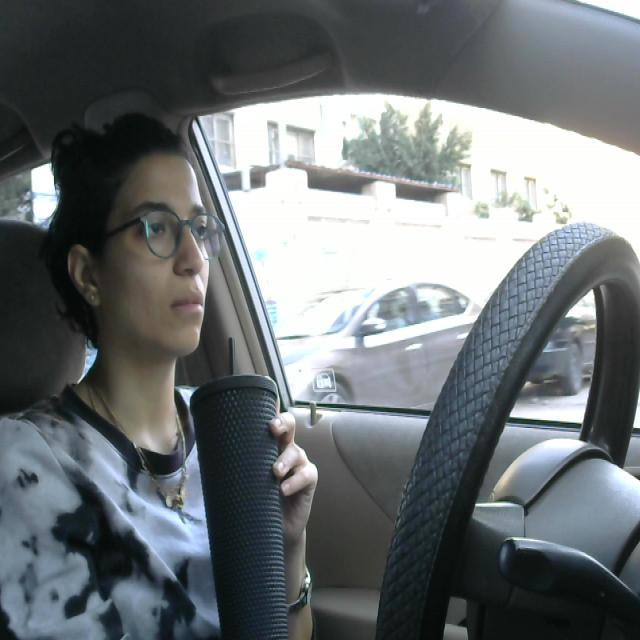drinking: (190, 333, 296, 640)
